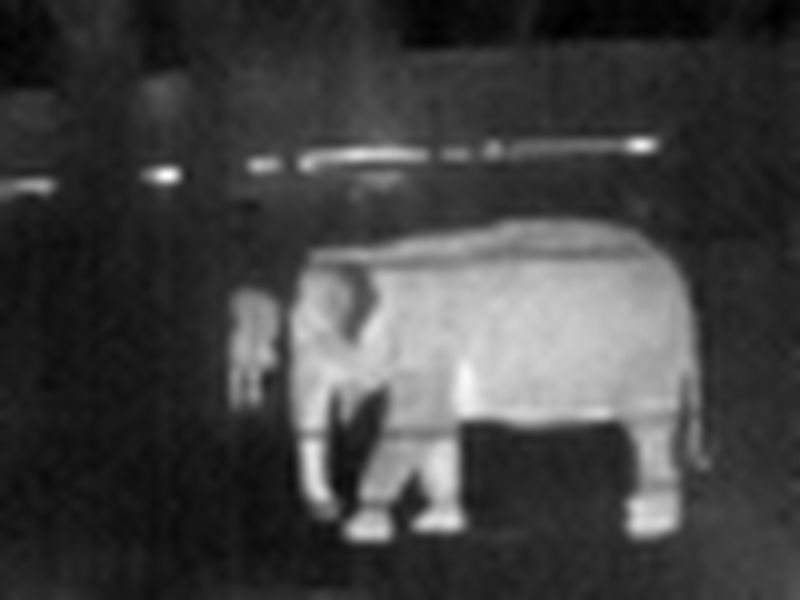elephant: (235, 221, 684, 540)
